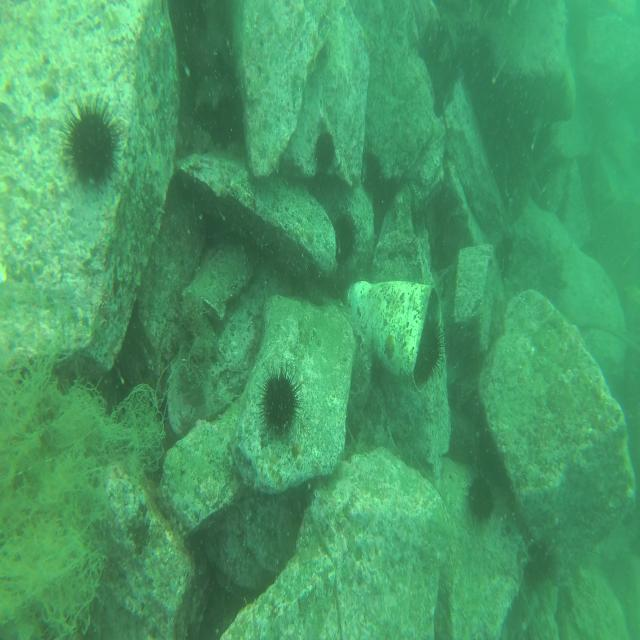echinus: (63, 90, 121, 191), (258, 361, 300, 439), (420, 314, 445, 381), (469, 470, 496, 530), (330, 212, 361, 260), (315, 127, 337, 174)
